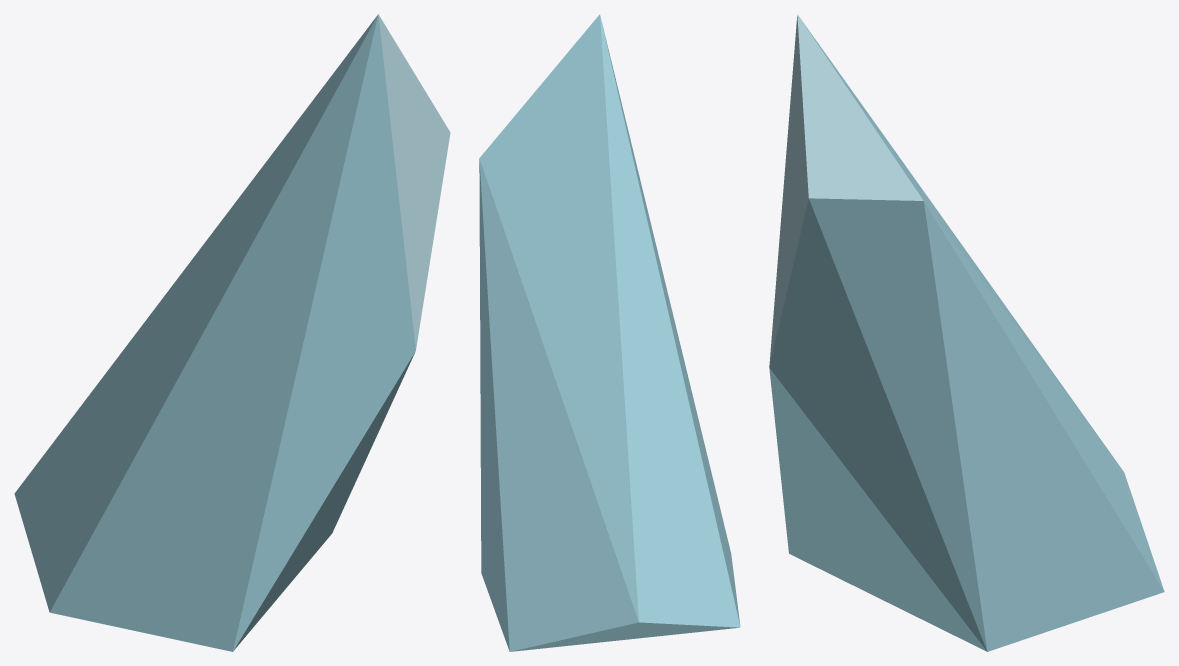
File: sharp_rock_3.fbx
The picture shows the model from 3 angles, left to right: view 1: azimuth 30°, elevation 25°; view 2: azimuth 150°, elevation 25°; view 3: azimuth 270°, elevation 25°; orthographic projection. The views are drawn at different scales.
Parts seen in each view (by area): view 1: sharp_rock_3; view 2: sharp_rock_3; view 3: sharp_rock_3.
Part boxes in pixels (bbox=[...]): sharp_rock_3: bbox=[14, 14, 450, 651]; sharp_rock_3: bbox=[479, 14, 740, 651]; sharp_rock_3: bbox=[769, 14, 1164, 651].
Bounding box in the file's own units: 187 × 328 × 191.
